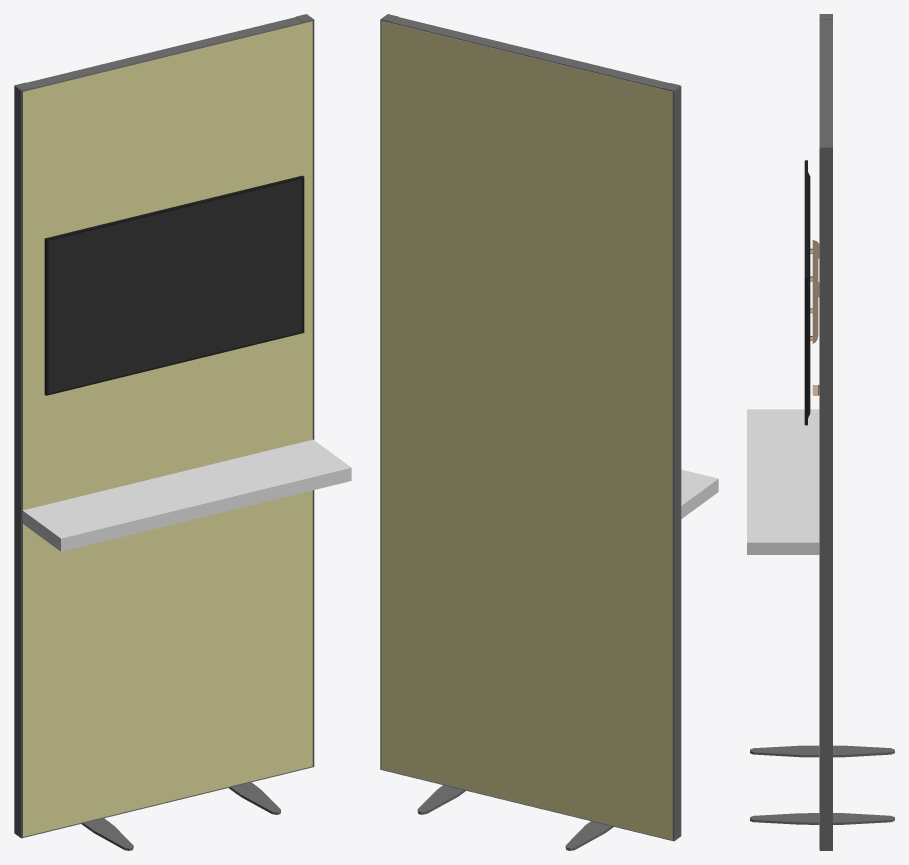
The model's file is Multimedia TV Shelf.glb.
3 views of the same model, side by side, from view 1: azimuth 30°, elevation 25°; view 2: azimuth 150°, elevation 25°; view 3: azimuth 270°, elevation 25° (orthographic). The views are drawn at different scales.
Visible parts, largest first — view 1: Standard 38.017, TV.001, Cube.004, toggle_feet_center.008; view 2: toggle_back_panel.010, Standard 38.017, toggle_feet_center.008, Cube.004; view 3: Standard 38.017, Cube.004, toggle_feet_center.008, TV.001, Support.001, toggle_feet_edge.006.
Part boxes in pixels (x1,y1,x2,y2): Standard 38.017: (14,14,314,838); TV.001: (44,175,304,395); Cube.004: (22,439,351,551); toggle_feet_center.008: (81,782,276,845); toggle_back_panel.010: (381,21,672,839); Standard 38.017: (380,14,681,841); toggle_feet_center.008: (417,785,613,850); Cube.004: (681,469,718,518); Standard 38.017: (819,14,832,850); Cube.004: (747,409,819,554); toggle_feet_center.008: (757,745,894,824); TV.001: (804,160,810,425); Support.001: (810,240,819,395); toggle_feet_edge.006: (750,745,807,824).
Size of the model in its own units: 0.969 by 2.37 by 0.4503.
Materials: 5 (1 with a texture image).
